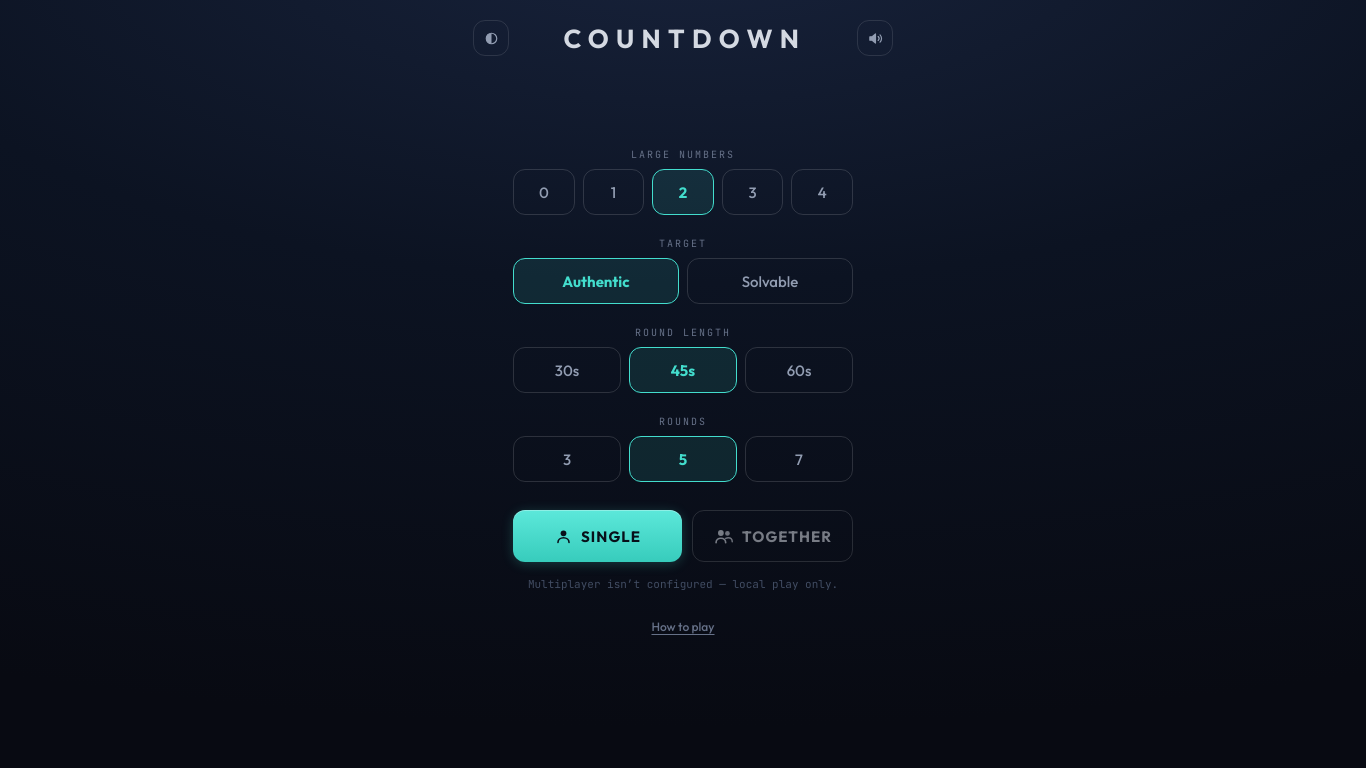
Test case: the game › scores a round that is submitted untouched
Click the button "Single": (598, 536) [513, 510, 682, 562]
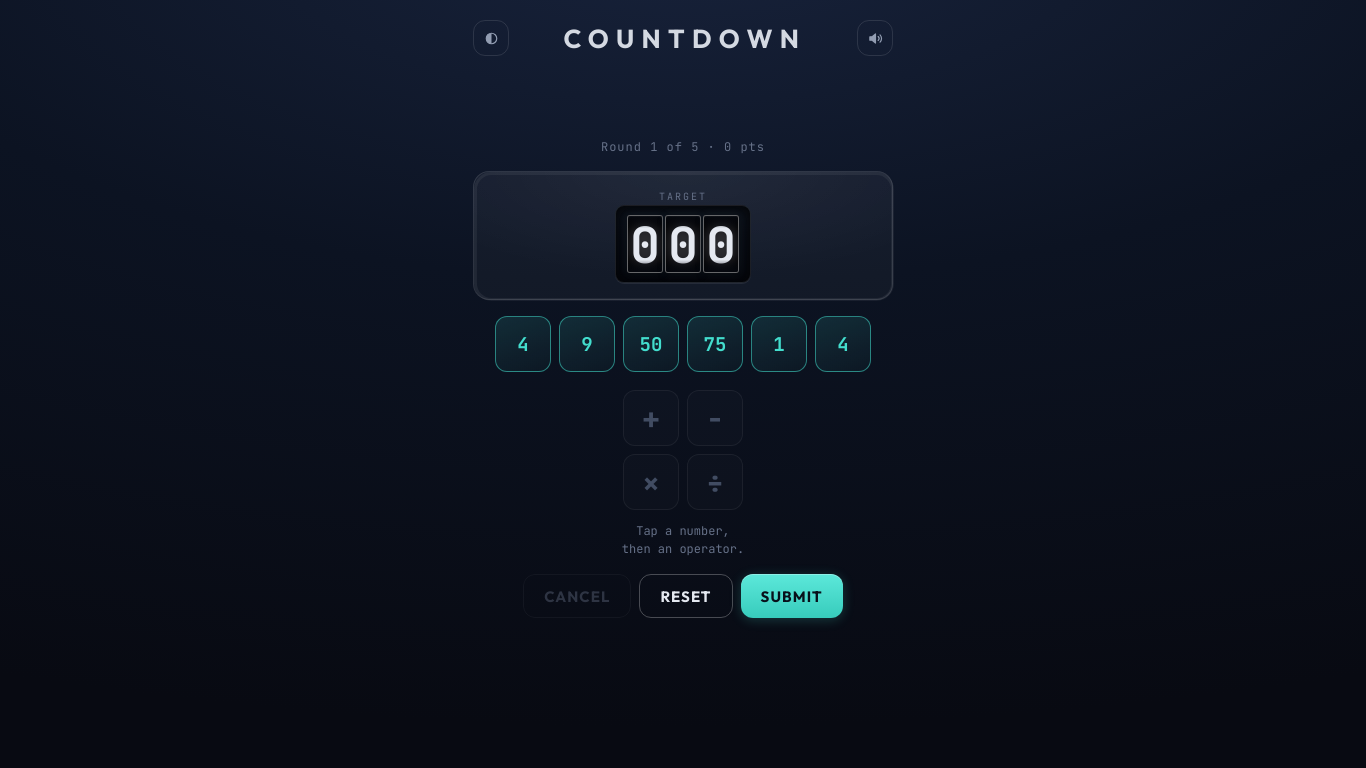
Now the button "Submit" is shown
Click the button "Submit": (792, 596) [740, 574, 843, 618]
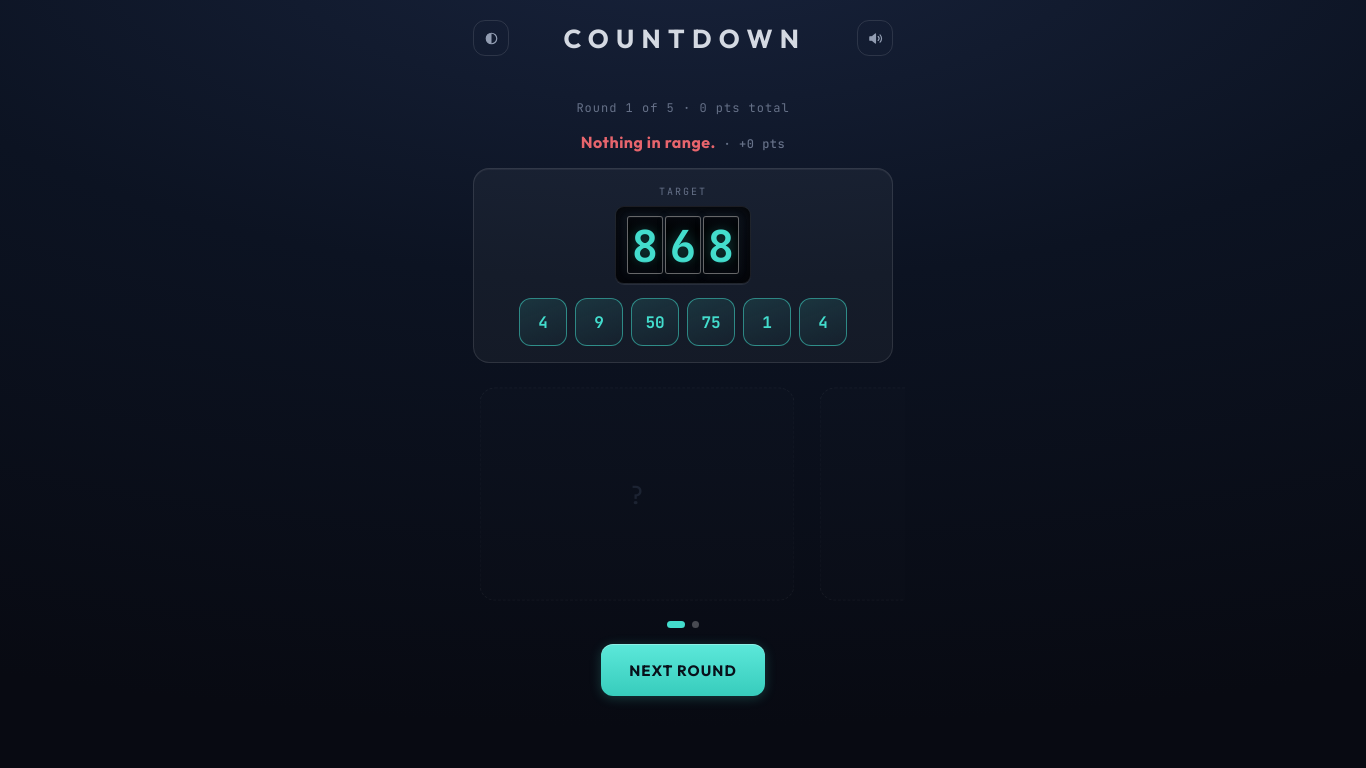
Expected: the text "Target" is shown, [659, 185, 707, 198]
Now the button "Next round" is shown, box [601, 644, 765, 696]
Now the text "Round 1 of 5 · 0 pts total" is shown, box [576, 100, 790, 116]
